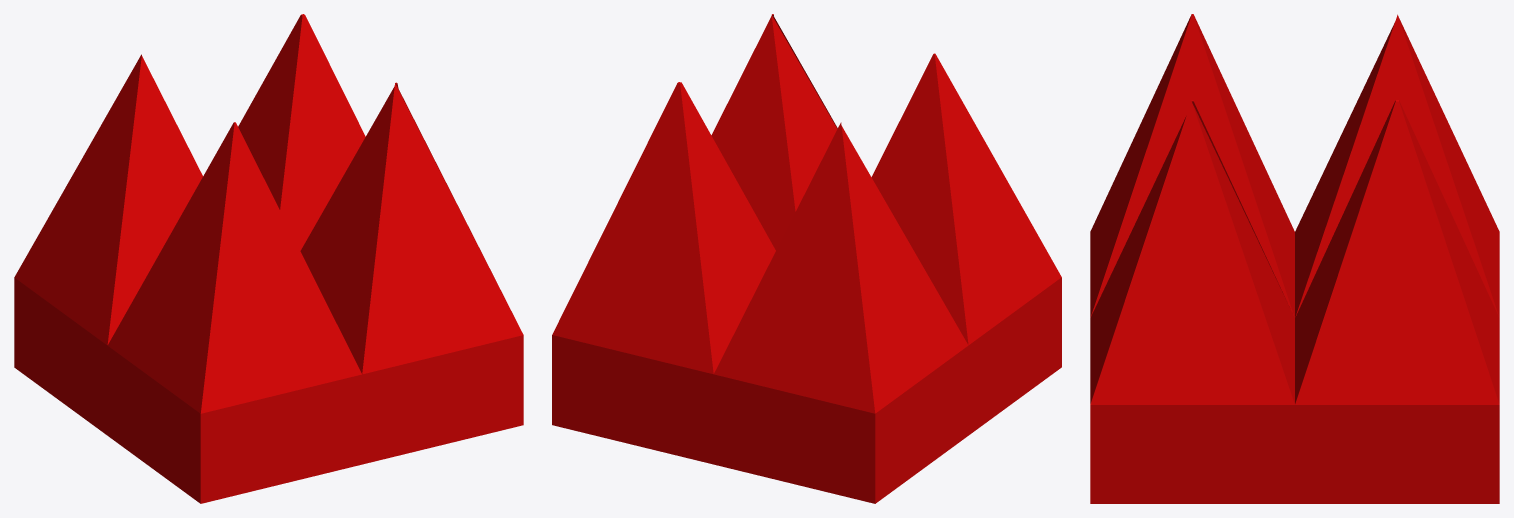
File: spikes.fbx
3 renders of one model, left to right at view 1: azimuth 30°, elevation 25°; view 2: azimuth 150°, elevation 25°; view 3: azimuth 270°, elevation 25°, orthographic. The views are drawn at different scales.
Parts seen in each view (by area): view 1: Cube.002; view 2: Cube.002; view 3: Cube.002.
Part boxes in pixels (x1,y1,x2,y2): Cube.002: [14, 14, 523, 503]; Cube.002: [552, 14, 1061, 503]; Cube.002: [1090, 14, 1499, 503].
Size of the model in its own units: 100 by 96.97 by 100.
